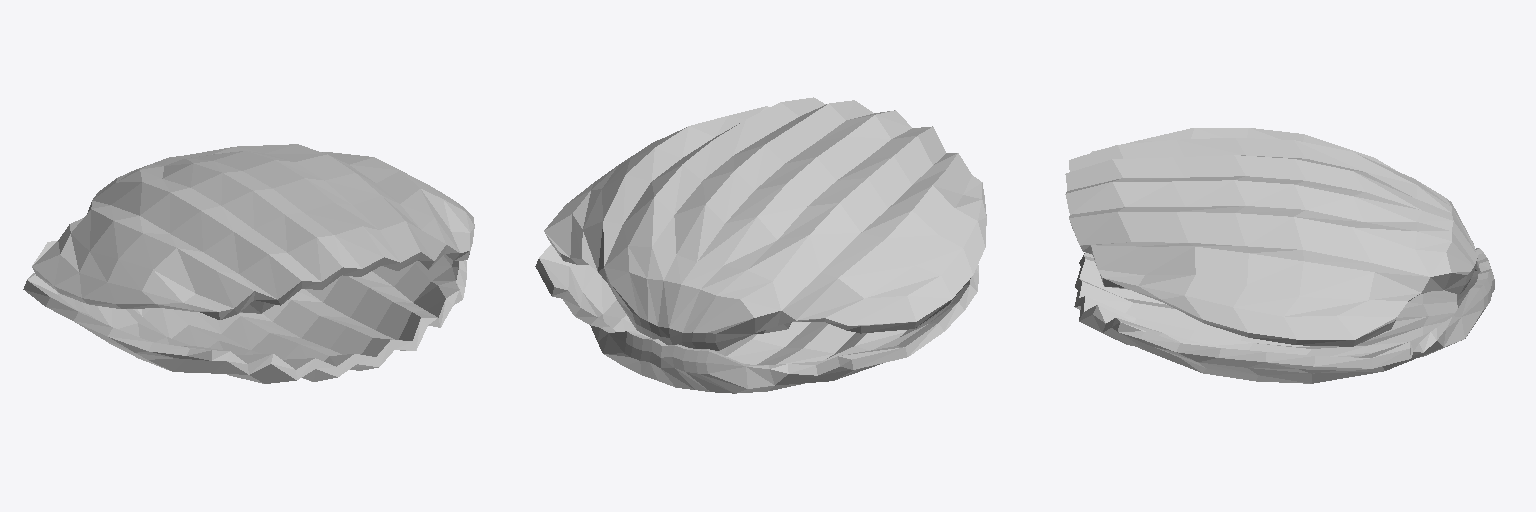
File: Seashell_Topping.obj
The picture shows the model from 3 angles: view 1: azimuth 30°, elevation 25°; view 2: azimuth 150°, elevation 25°; view 3: azimuth 270°, elevation 25°; orthographic projection.
Parts seen in each view (by area): view 1: Seashell; view 2: Seashell; view 3: Seashell.
Boxes of the visible parts, x1=… form: Seashell: x1=23, y1=144, x2=474, y2=383; Seashell: x1=535, y1=97, x2=986, y2=393; Seashell: x1=1065, y1=128, x2=1494, y2=383.
Size of the model in its own units: 1.66 by 0.7233 by 1.59.